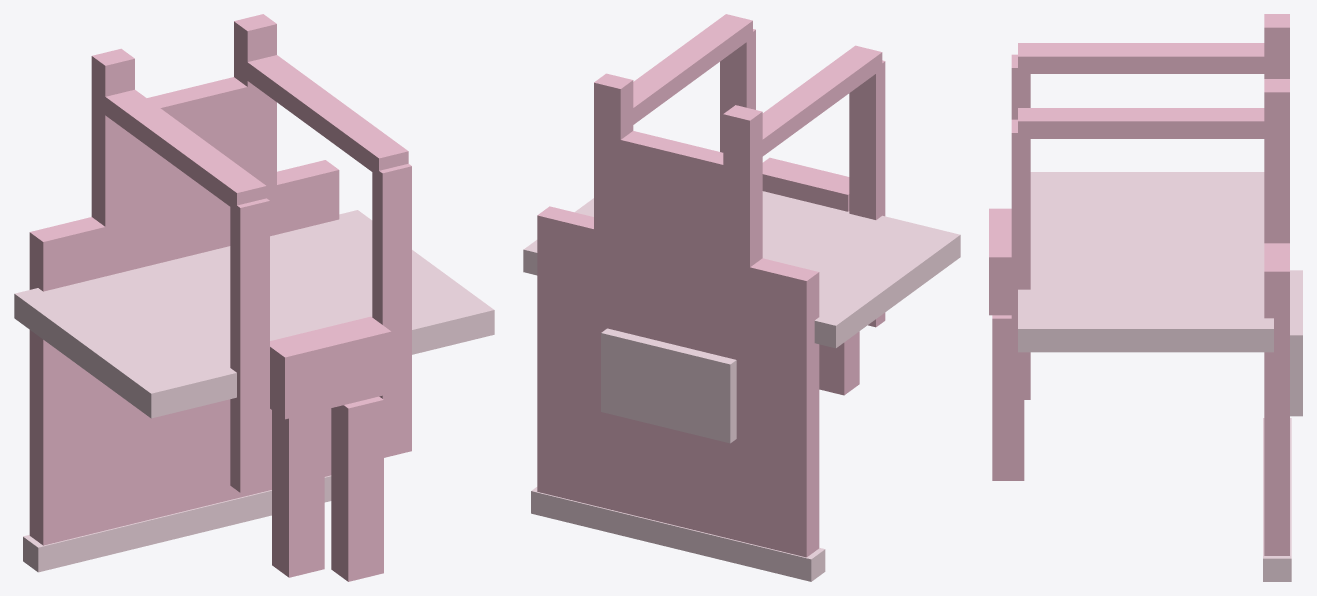
Rendered from avental_rosa.glb.
3 views of the same model, side by side, from view 1: azimuth 30°, elevation 25°; view 2: azimuth 150°, elevation 25°; view 3: azimuth 270°, elevation 25° (orthographic). The views are drawn at different scales.
Parts seen in each view (by area): view 1: avental_rosa; view 2: avental_rosa; view 3: avental_rosa.
Part boxes in pixels (left/top/right/bottom): avental_rosa: left=14, top=14, right=494, bottom=581; avental_rosa: left=523, top=14, right=960, bottom=581; avental_rosa: left=989, top=14, right=1302, bottom=581.
Size of the model in its own units: 0.58 by 0.79 by 0.49.
